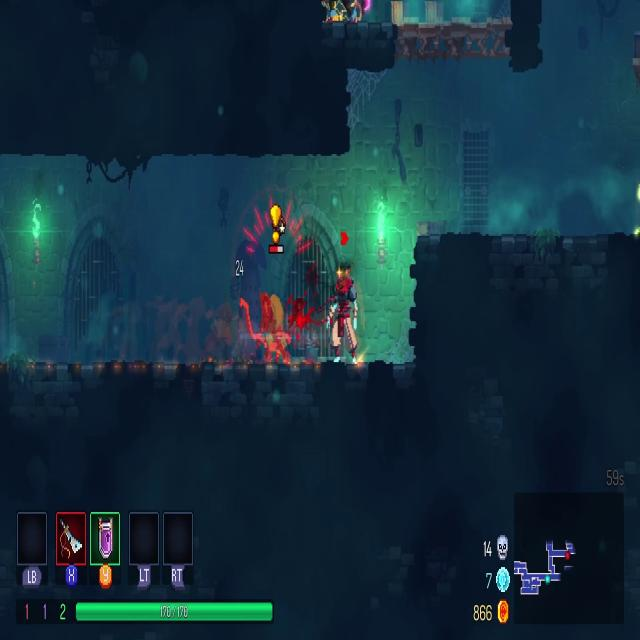agents: (327, 268, 361, 366)
enemy_archer: (240, 286, 292, 378)
wood_floor: (396, 18, 512, 64)
